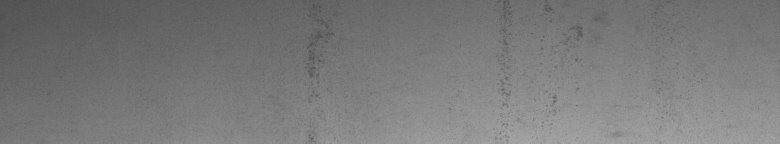ib: (499, 4, 604, 112)
